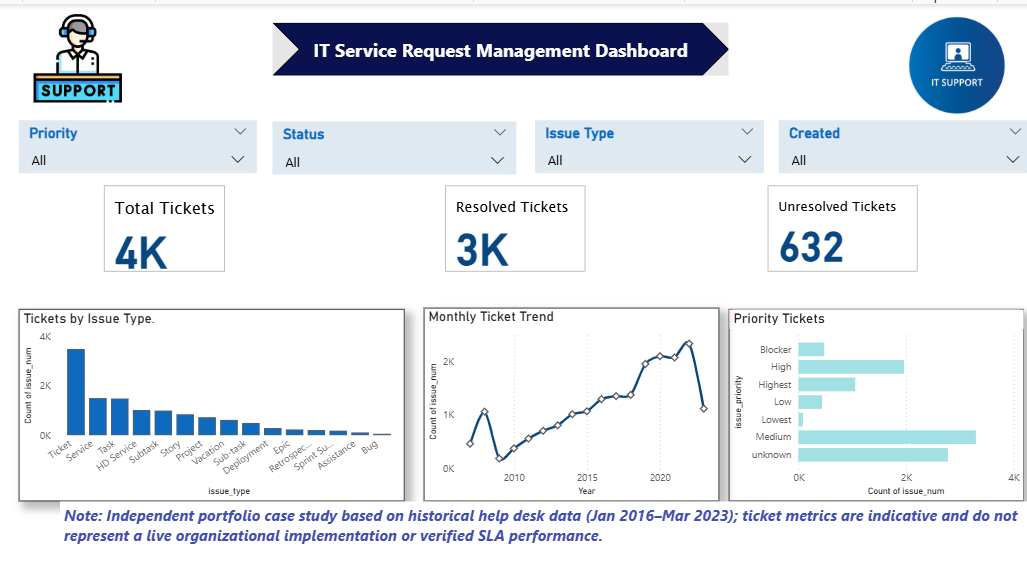

The dashboard page shown, as its layout file describes it:
{"tool":"powerbi","page":{"name":"Overview","canvas":[1280,720],"ordinal":0},"visuals":[{"type":"shape","box":[337.5,23.3,565.9,65.5],"z":0},{"type":"cardVisual","fields":{"Data":["issues.Total Tickets"]},"box":[123.7,219.7,160,117.8],"z":1000},{"type":"cardVisual","fields":{"Data":["issues.Resolved Tickets"]},"box":[547,219.7,184.8,117.8],"z":2000},{"type":"cardVisual","fields":{"Data":["issues.Unresolved Tickets"]},"box":[947.1,219.7,196.4,117.8],"z":3000},{"type":"clusteredBarChart","title":"Priority Tickets","fields":{"Y":["Count(issues.issue_num)"],"Category":["issues.issue_priority"]},"box":[903.5,378.3,366.6,238.6],"z":4000},{"type":"image","box":[0,7.3,192,119.3],"z":5000},{"type":"lineChart","title":"Monthly Ticket Trend","fields":{"Category":["issues.issue_created.Variation.Date Hierarchy.Year","issues.issue_created.Variation.Date Hierarchy.Quarter","issues.issue_created.Variation.Date Hierarchy.Month","issues.issue_created.Variation.Date Hierarchy.Day"],"Y":["Count(issues.issue_num)"]},"box":[525.2,376.8,366.6,240.1],"z":6000},{"type":"clusteredColumnChart","title":"Tickets by Issue Type.","fields":{"Category":["issues.issue_type"],"Y":["Count(issues.issue_num)"]},"box":[23.3,378.3,478.7,238.6],"z":7000},{"type":"slicer","fields":{"Values":["issues.issue_priority"]},"box":[23.3,144,295.3,65.5],"z":8000},{"type":"slicer","fields":{"Values":["issues.issue_status"]},"box":[337.5,145.5,302.6,65.5],"z":9000},{"type":"slicer","fields":{"Values":["issues.issue_type"]},"box":[663.4,144,283.7,65.5],"z":10000},{"type":"slicer","fields":{"Values":["issues.issue_created"]},"box":[966,144,314.3,65.5],"z":11000},{"type":"textbox","box":[338,220,210,150],"z":12000},{"type":"textbox","box":[74.2,616.9,1206.1,103.3],"z":13000},{"type":"image","box":[1107.2,7.3,160,136.8],"z":14000}]}

Visuals, with their boxes in screenshot pixels (x1, y1, x2, y2), scaled from the page's 1280x720 canvas onto the 1027x582 screenshot:
shape: (x1=271, y1=19, x2=725, y2=72)
cardVisual - issues.Total Tickets: (x1=99, y1=178, x2=228, y2=273)
cardVisual - issues.Resolved Tickets: (x1=439, y1=178, x2=587, y2=273)
cardVisual - issues.Unresolved Tickets: (x1=760, y1=178, x2=917, y2=273)
"Priority Tickets" clusteredBarChart: (x1=725, y1=306, x2=1019, y2=499)
image: (x1=0, y1=6, x2=154, y2=102)
"Monthly Ticket Trend" lineChart: (x1=421, y1=305, x2=716, y2=499)
"Tickets by Issue Type." clusteredColumnChart: (x1=19, y1=306, x2=403, y2=499)
slicer - issues.issue_priority: (x1=19, y1=116, x2=256, y2=169)
slicer - issues.issue_status: (x1=271, y1=118, x2=514, y2=171)
slicer - issues.issue_type: (x1=532, y1=116, x2=760, y2=169)
slicer - issues.issue_created: (x1=775, y1=116, x2=1026, y2=169)
textbox: (x1=271, y1=178, x2=440, y2=299)
textbox: (x1=60, y1=499, x2=1026, y2=581)
image: (x1=888, y1=6, x2=1017, y2=116)
